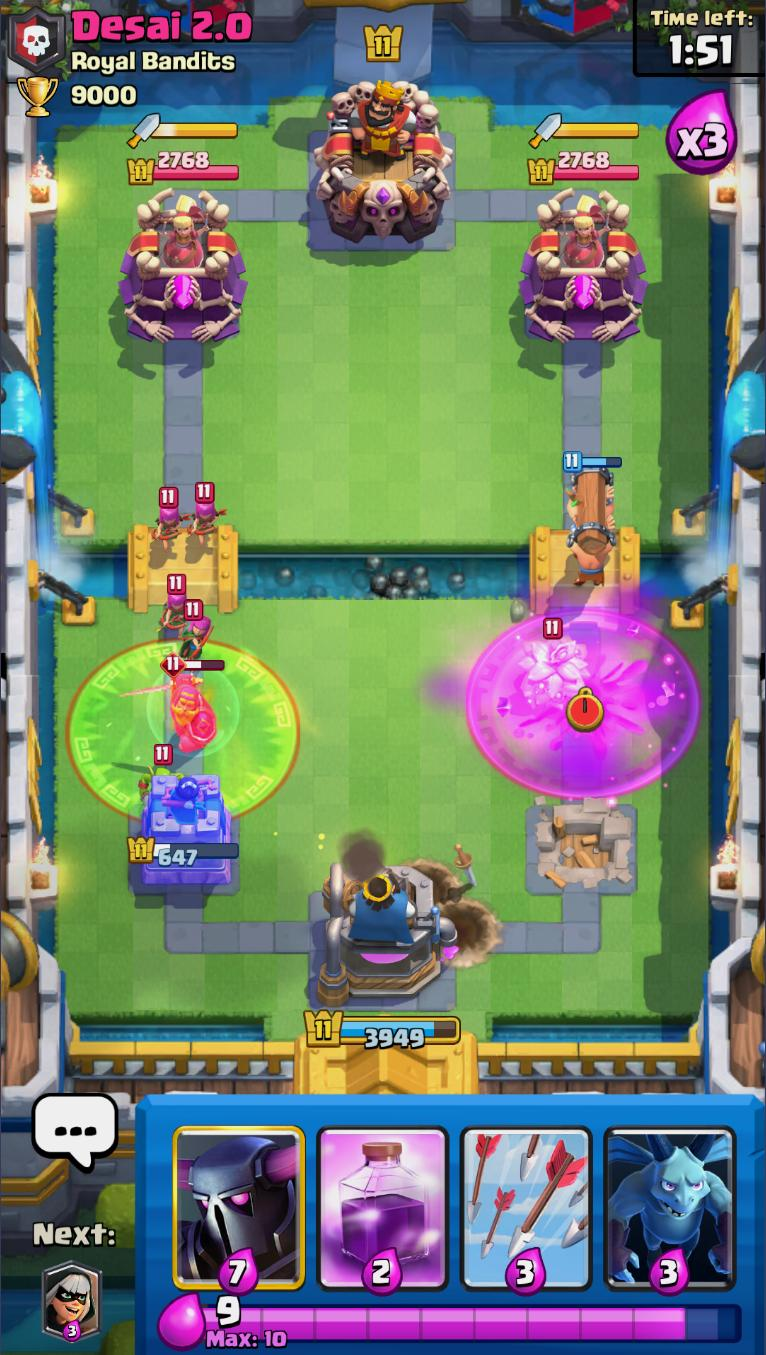Archer: (146, 485, 191, 554), (185, 480, 228, 552), (174, 601, 216, 666), (156, 575, 195, 634)
ArrowDeck: (455, 1096, 599, 1296)
BanditNext: (41, 1260, 103, 1344)
Bush: (507, 618, 595, 709)
Daggers: (526, 109, 641, 150), (126, 111, 239, 148)
Elixir: (204, 1295, 745, 1350)
EnemyTower: (516, 186, 650, 345), (118, 186, 247, 346)
EvoKnight: (114, 653, 226, 759)
Goblin: (135, 744, 185, 805)
GoblinCurse: (66, 634, 303, 823)
KingTower: (311, 76, 455, 245)
MinionsDeck: (596, 1096, 745, 1295)
MyBattleRam: (560, 450, 624, 591)
MyKingHP: (301, 1005, 463, 1051)
MyKingTower: (311, 860, 445, 1009)
MyPrincessTower: (126, 769, 243, 891)
MyPrincessTowerBrocken: (520, 794, 641, 900)
MyPrincessTowerHP: (125, 831, 240, 869)
PekkaDeck: (165, 1096, 312, 1294)
Rage: (466, 609, 701, 800)
RageDeck: (310, 1096, 456, 1296)
TowerPrincessHP: (124, 149, 241, 186), (525, 149, 640, 185)
